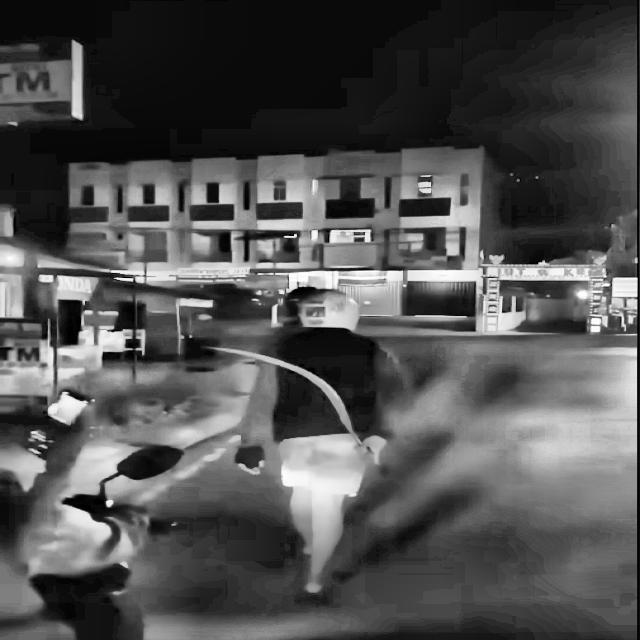celurit: (195, 337, 387, 470)
